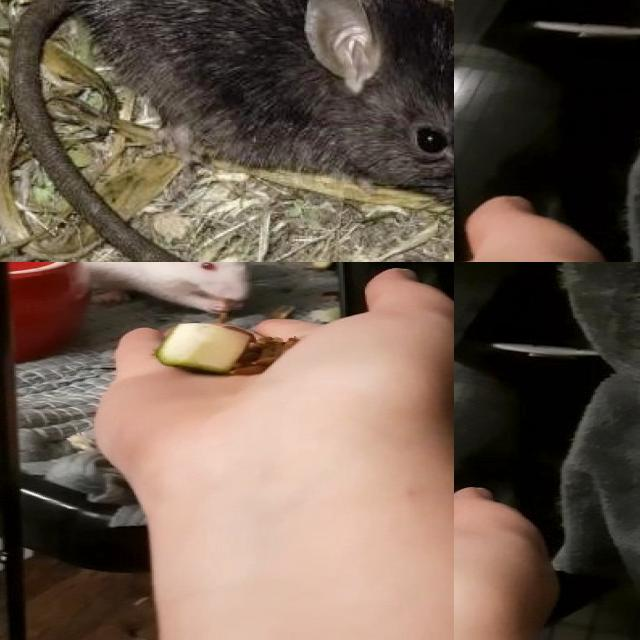rat: (0, 0, 454, 262), (49, 262, 254, 319)
